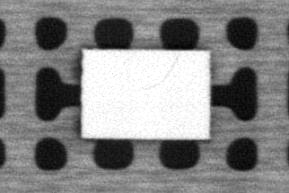DIE_CRACK: (140, 55, 183, 91)
